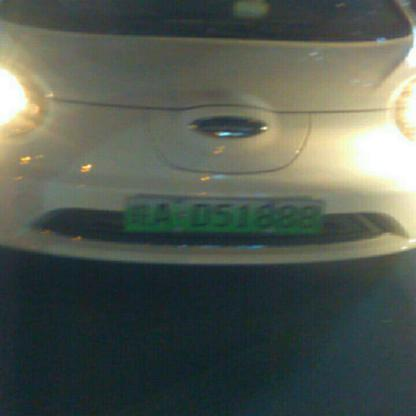lp: (126, 197, 324, 234)
